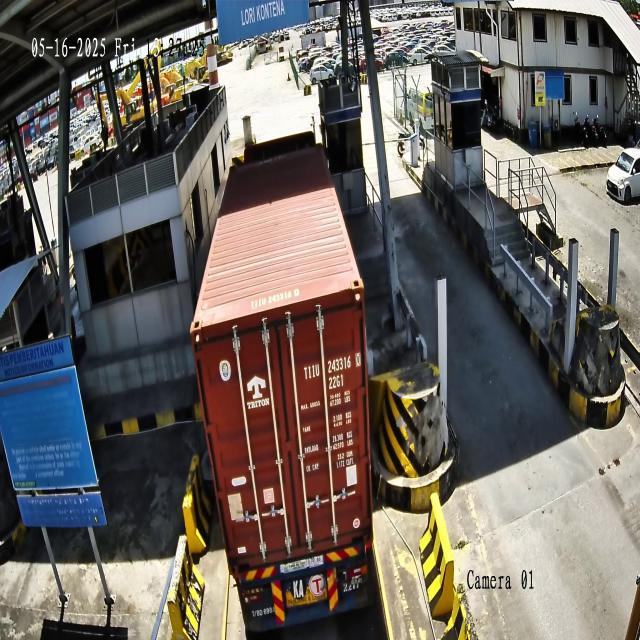ISO: (328, 374, 344, 391)
container_number: (304, 352, 361, 380)
